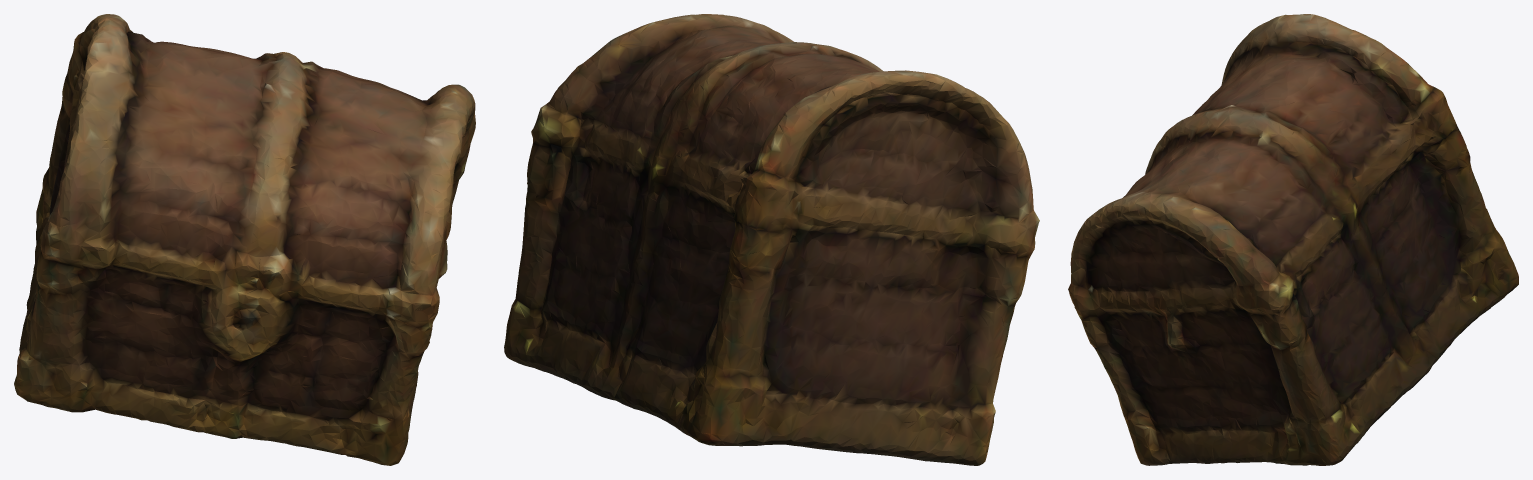
File: chest.glb
3 views of the same model, side by side, from view 1: azimuth 30°, elevation 25°; view 2: azimuth 150°, elevation 25°; view 3: azimuth 270°, elevation 25° (orthographic). The views are drawn at different scales.
Visible parts, largest first — view 1: chest.obj; view 2: chest.obj; view 3: chest.obj.
Part boxes in pixels (left/top/right/bottom): chest.obj: left=14, top=14, right=475, bottom=465; chest.obj: left=504, top=14, right=1039, bottom=465; chest.obj: left=1068, top=14, right=1518, bottom=465.
Size of the model in its own units: 1.15 by 1 by 1.13.
